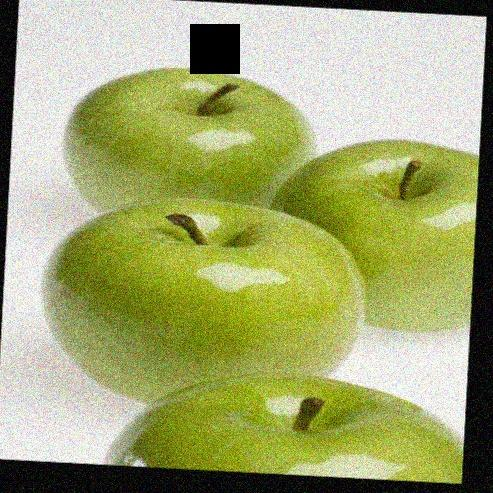green apple: (40, 199, 376, 411), (269, 134, 475, 331), (95, 371, 464, 474), (60, 64, 315, 209)
